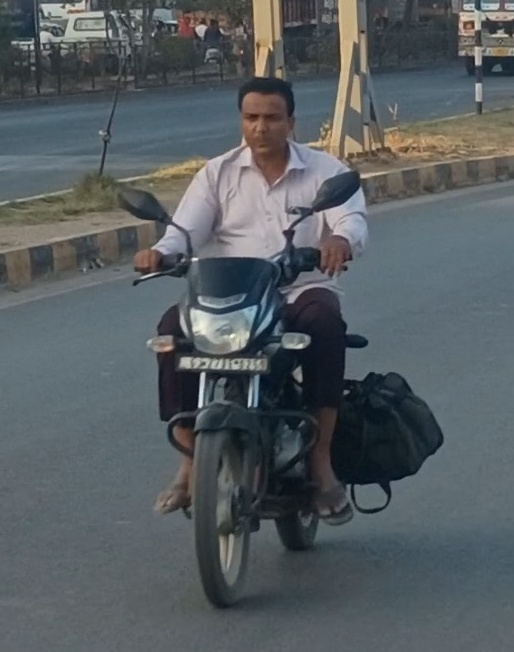BikeWithRider: (107, 70, 450, 615)
NoHelmet: (227, 71, 306, 162)
